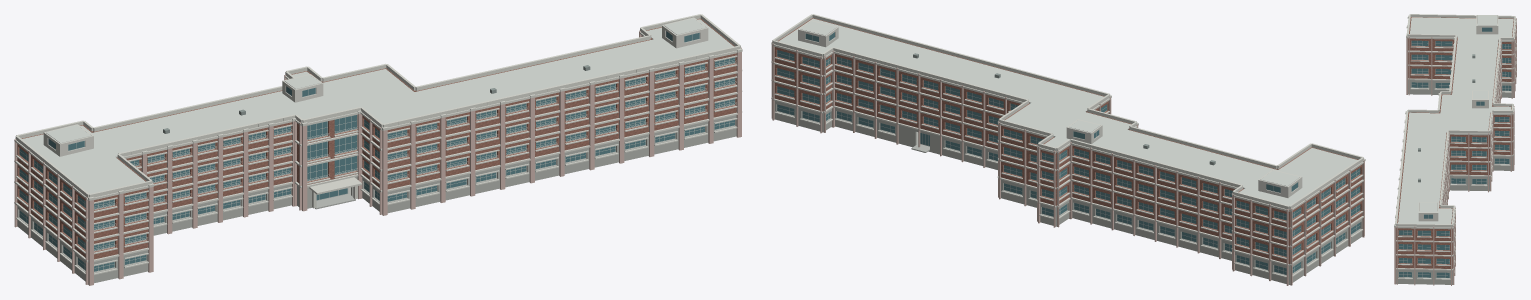
The picture shows the model from 3 angles, left to right: view 1: azimuth 30°, elevation 25°; view 2: azimuth 150°, elevation 25°; view 3: azimuth 270°, elevation 25°; orthographic projection. The views are drawn at different scales.
Visible parts, largest first — view 1: main__white-band, main__brick, main__roof, main__pink-pier, main__glass, main__gray-base, main__front-frame, main__frame; view 2: main__brick, main__white-band, main__roof, main__glass, main__pink-pier, main__gray-base, main__frame; view 3: main__roof, main__white-band, main__brick, main__glass, main__pink-pier, main__gray-base, main__frame.
Part boxes in pixels (x1,y1,x2,y2): main__white-band: (14, 14, 742, 274); main__brick: (17, 18, 736, 259); main__roof: (22, 18, 733, 193); main__pink-pier: (14, 31, 741, 285); main__glass: (19, 31, 734, 271); main__gray-base: (17, 57, 736, 283); main__front-frame: (94, 57, 736, 271); main__frame: (19, 31, 699, 270); main__brick: (774, 18, 1362, 263); main__white-band: (771, 14, 1365, 277); main__roof: (779, 18, 1357, 205); main__glass: (777, 32, 1360, 274); main__pink-pier: (771, 42, 1364, 285); main__gray-base: (774, 101, 1362, 284); main__frame: (777, 34, 1360, 275); main__roof: (1398, 15, 1513, 224); main__white-band: (1394, 14, 1516, 279); main__brick: (1396, 17, 1514, 268); main__glass: (1399, 27, 1511, 277); main__pink-pier: (1394, 18, 1516, 285); main__gray-base: (1396, 61, 1513, 284); main__frame: (1398, 28, 1510, 278).
Size of the model in its own units: 111 by 16.28 by 27.21.
Materials: 10 (1 with a texture image).
